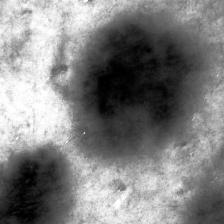Benign Marking or Mole: (84, 23, 190, 151), (0, 157, 61, 221), (193, 191, 224, 224)
